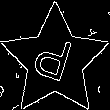P_S: (31, 31, 79, 90)
